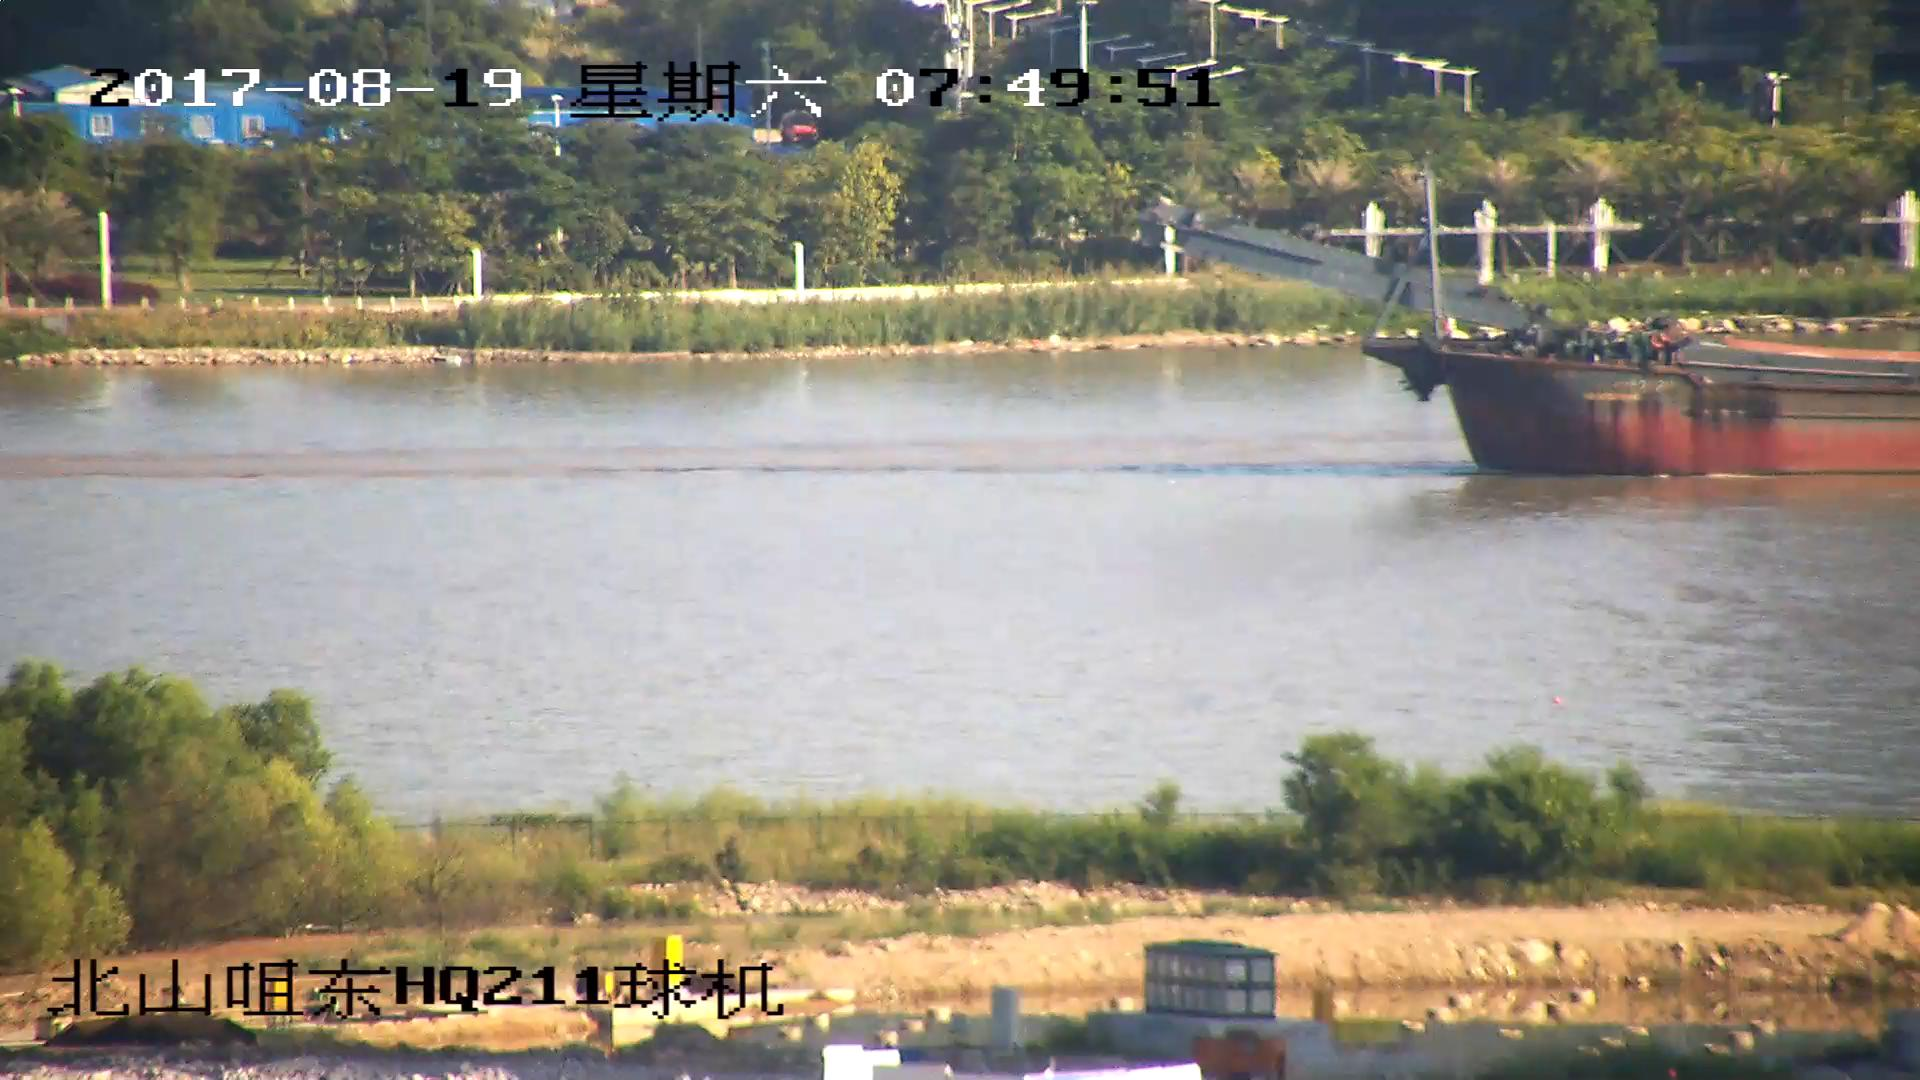bulk cargo carrier: (1158, 192, 1920, 475)
